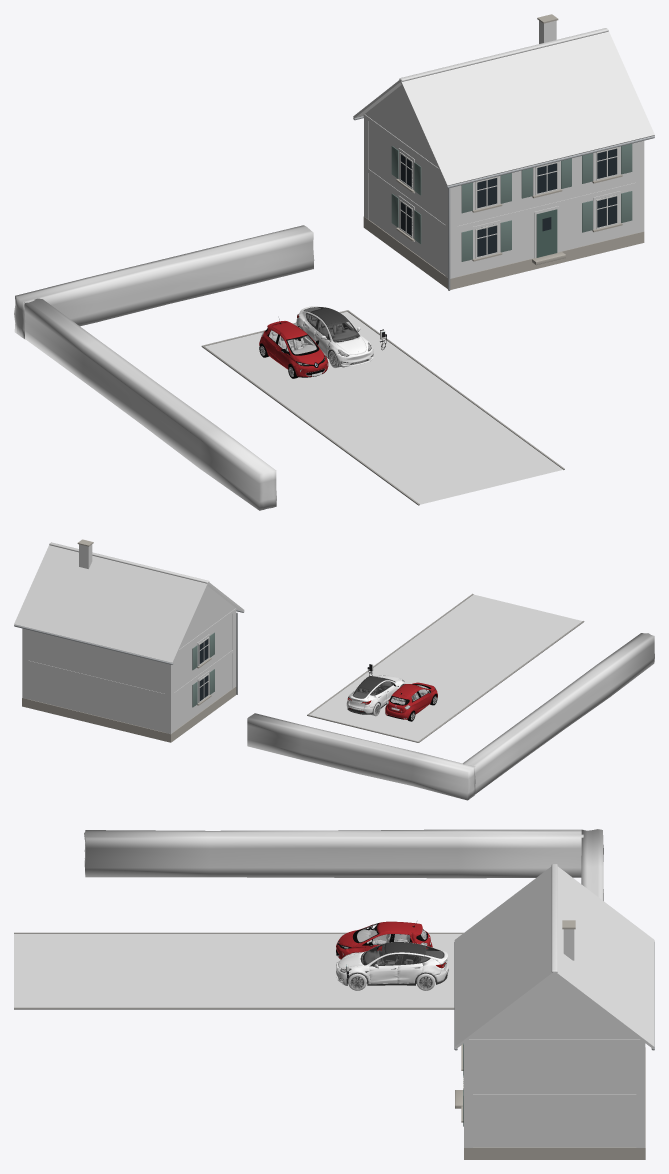
Rendered from carport-extras.glb.
3 renders of one model, top to bottom at view 1: azimuth 30°, elevation 25°; view 2: azimuth 150°, elevation 25°; view 3: azimuth 270°, elevation 25°, orthographic. The views are drawn at different scales.
Parts seen in each view (by area): view 1: SC_Allee, SC_Toit_S, SC_Maison_murs, SC_Haie_gauche, SC_Haie_fond, SC_Maison_soubassement, SC_Bandeau_etage, SC_Faitage, SC_Chaine_-1_-1, SC_Porte_fond, SC_Chaine_1_-1; view 2: SC_Allee, SC_Toit_N, SC_Maison_murs, SC_Haie_fond, SC_Haie_gauche, SC_Maison_soubassement, SC_Bandeau_etage, SC_Chaine_-1_1, SC_Faitage, SC_Bordure_G, SC_Chaine_1_1, SC_Gouttiere_1; view 3: SC_Allee, SC_Haie_gauche, SC_Maison_murs, SC_Toit_S, SC_Toit_N, SC_Maison_soubassement, SC_Haie_fond, SC_Bordure_D, SC_Chaine_1_1, SC_Chaine_1_-1, SC_Bandeau_etage, SC_Corniche (+4 smaller).
Part boxes in pixels (x1=…): SC_Allee: x1=205, y1=311, x2=562, y2=504; SC_Toit_S: x1=400, y1=31, x2=654, y2=186; SC_Maison_murs: x1=365, y1=85, x2=636, y2=276; SC_Haie_gauche: x1=24, y1=298, x2=276, y2=510; SC_Haie_fond: x1=14, y1=225, x2=314, y2=338; SC_Maison_soubassement: x1=363, y1=216, x2=644, y2=289; SC_Bandeau_etage: x1=364, y1=166, x2=644, y2=231; SC_Faitage: x1=399, y1=28, x2=608, y2=81; SC_Chaine_-1_-1: x1=445, y1=184, x2=456, y2=278; SC_Porte_fond: x1=536, y1=209, x2=557, y2=257; SC_Chaine_1_-1: x1=636, y1=140, x2=644, y2=233; SC_Allee: x1=309, y1=594, x2=582, y2=741; SC_Toit_N: x1=14, y1=545, x2=208, y2=663; SC_Maison_murs: x1=28, y1=586, x2=235, y2=732; SC_Haie_fond: x1=247, y1=713, x2=475, y2=800; SC_Haie_gauche: x1=463, y1=633, x2=654, y2=793; SC_Maison_soubassement: x1=22, y1=686, x2=236, y2=742; SC_Bandeau_etage: x1=22, y1=648, x2=236, y2=698; SC_Chaine_-1_1: x1=165, y1=661, x2=174, y2=733; SC_Faitage: x1=49, y1=542, x2=209, y2=583; SC_Bordure_G: x1=418, y1=621, x2=584, y2=742; SC_Chaine_1_1: x1=22, y1=628, x2=27, y2=699; SC_Gouttiere_1: x1=14, y1=625, x2=173, y2=664; SC_Allee: x1=14, y1=934, x2=461, y2=1007; SC_Haie_gauche: x1=84, y1=829, x2=583, y2=878; SC_Maison_murs: x1=469, y1=974, x2=639, y2=1147; SC_Toit_S: x1=454, y1=866, x2=554, y2=1048; SC_Toit_N: x1=554, y1=866, x2=654, y2=1048; SC_Maison_soubassement: x1=464, y1=1047, x2=645, y2=1159; SC_Haie_fond: x1=581, y1=829, x2=603, y2=900; SC_Bordure_D: x1=14, y1=1007, x2=454, y2=1009; SC_Chaine_1_1: x1=636, y1=1043, x2=645, y2=1147; SC_Chaine_1_-1: x1=464, y1=1043, x2=472, y2=1147; SC_Bandeau_etage: x1=464, y1=1094, x2=645, y2=1098; SC_Corniche: x1=464, y1=1039, x2=644, y2=1043.
Bounding box in the file's own units: 29459 × 9875 × 27030.
